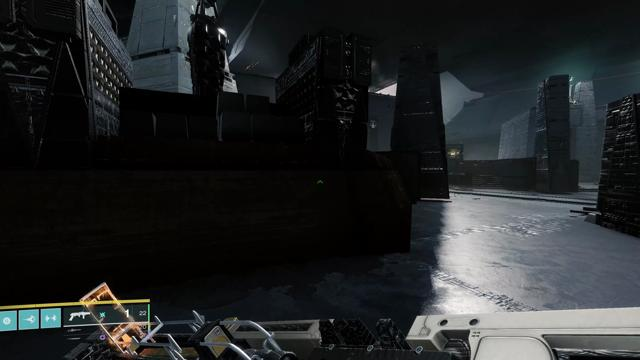drink: (369, 119, 378, 128)
